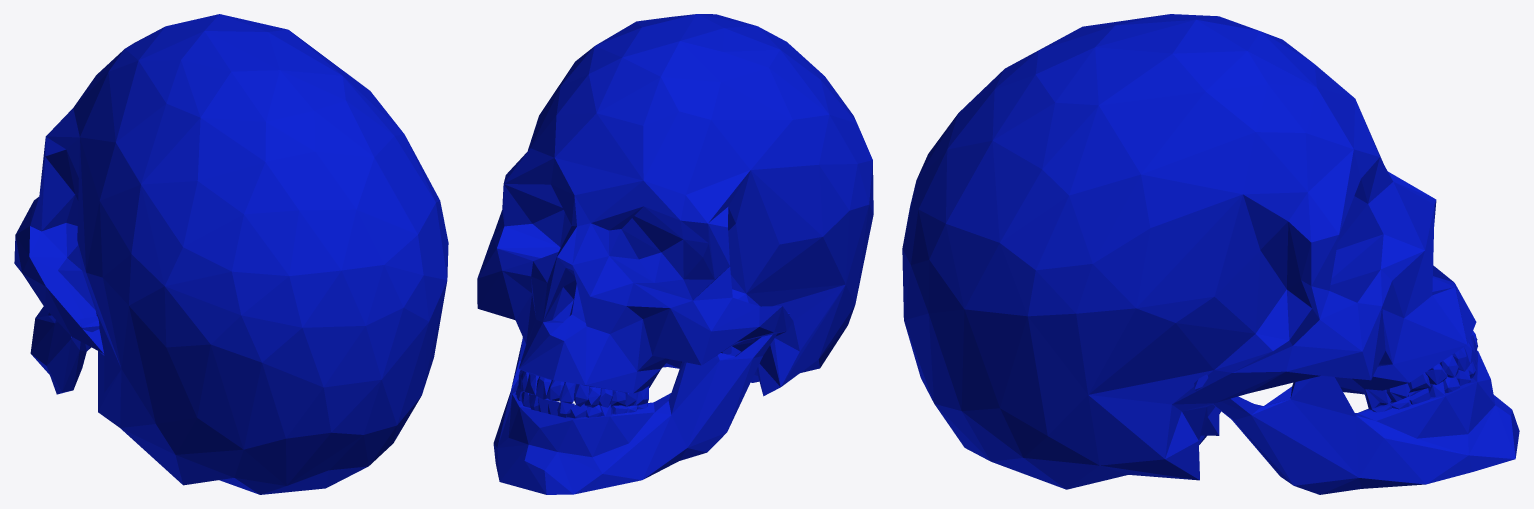
Rendered from skull_v2.dae.
3 views of the same model, side by side, from view 1: azimuth 30°, elevation 25°; view 2: azimuth 150°, elevation 25°; view 3: azimuth 270°, elevation 25° (orthographic). The views are drawn at different scales.
Parts seen in each view (by area): view 1: Skull1; view 2: Skull1; view 3: Skull1.
Boxes of the visible parts, <box> form: Skull1: <box>14,14,448,494</box>; Skull1: <box>477,14,873,494</box>; Skull1: <box>902,14,1519,494</box>.
Bounding box in the file's own units: 0.1008 × 0.1581 × 0.1173.
